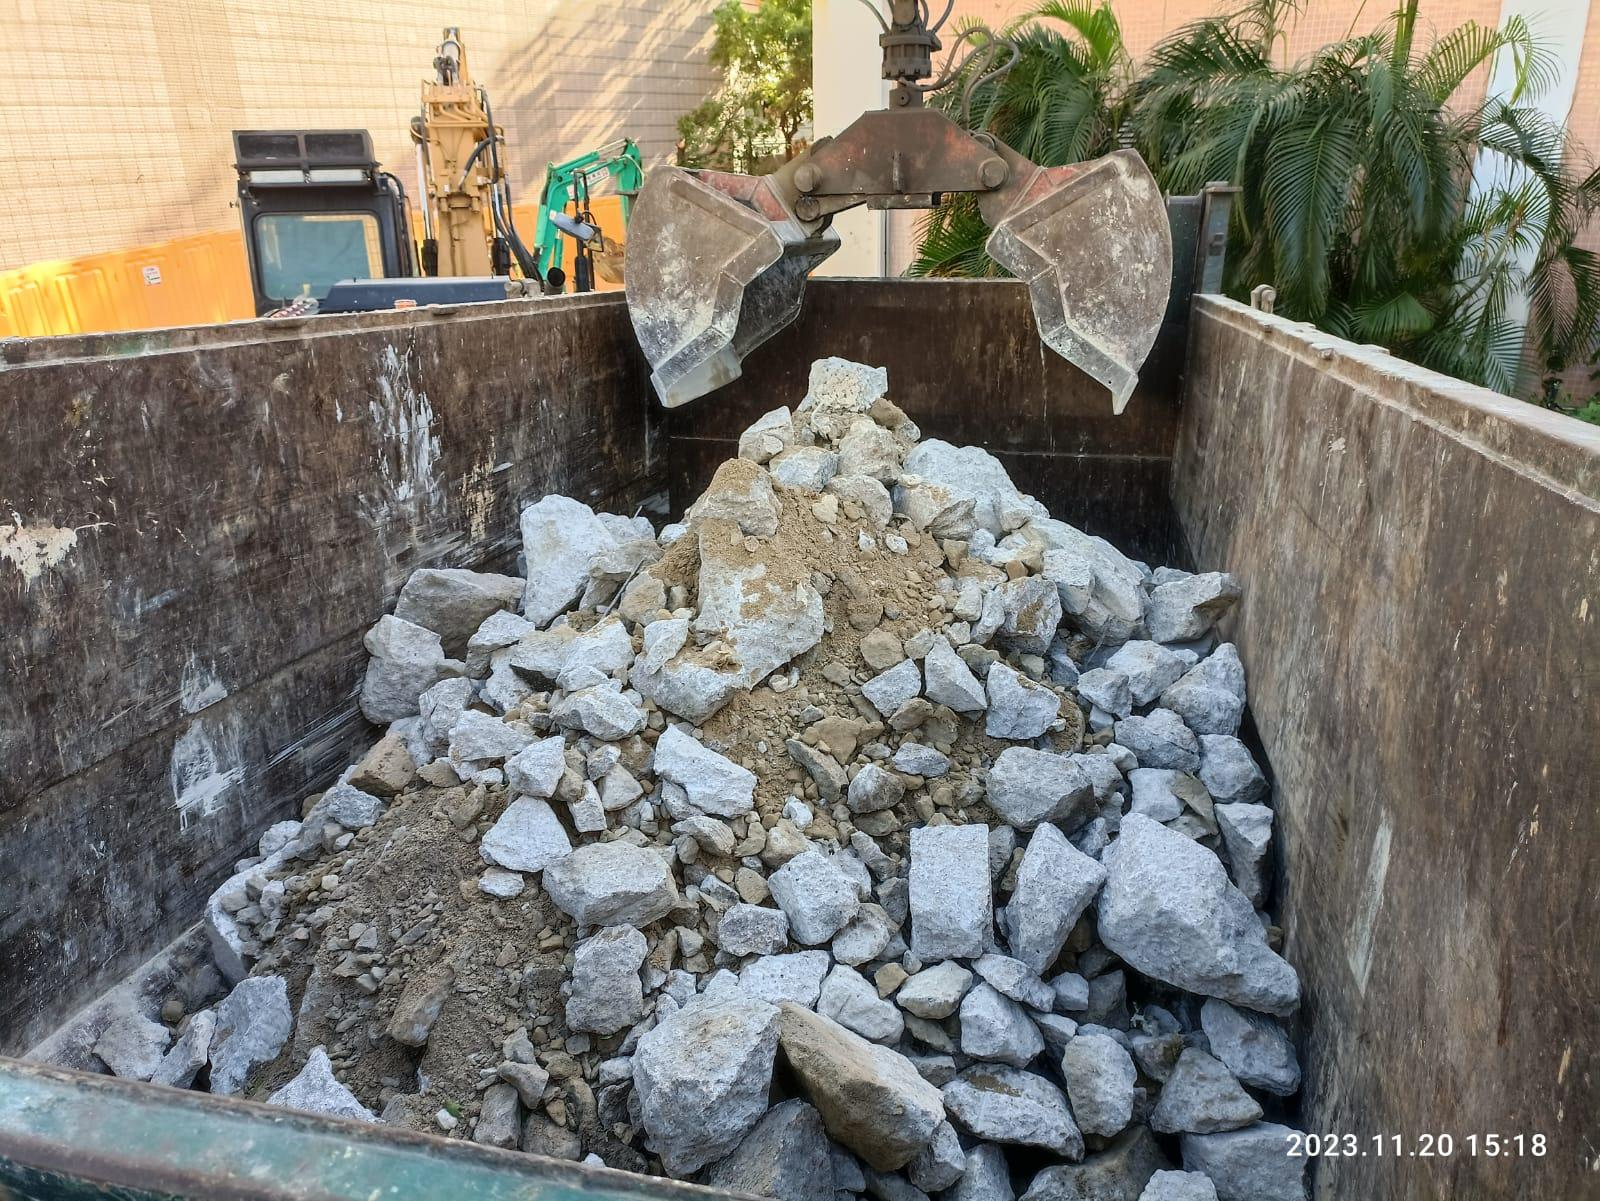dry: (140, 378, 1279, 1182)
